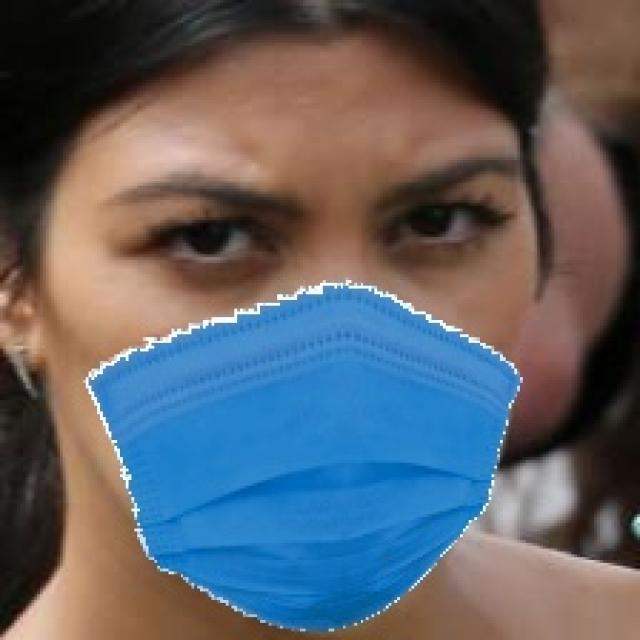mask: (76, 274, 542, 640)
